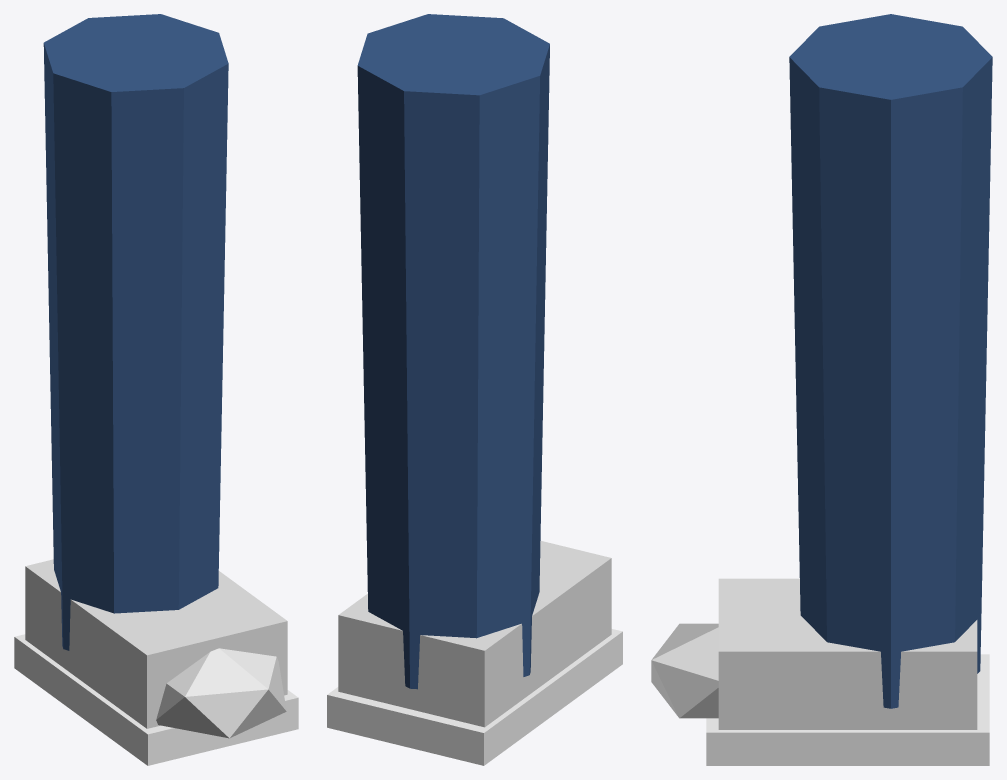
Rendered from insan_k1s_bacak.glb.
The picture shows the model from 3 angles, left to right: view 1: azimuth 30°, elevation 25°; view 2: azimuth 150°, elevation 25°; view 3: azimuth 270°, elevation 25°; orthographic projection. The views are drawn at different scales.
Parts seen in each view (by area): view 1: Cone; view 2: Cone; view 3: Cone.
Part boxes in pixels (box(x1,y1,x2,y2)): Cone: box(14, 14, 298, 765); Cone: box(327, 14, 622, 765); Cone: box(651, 14, 992, 765).
Bounding box in the file's own units: 0.033 × 0.12 × 0.0554.
